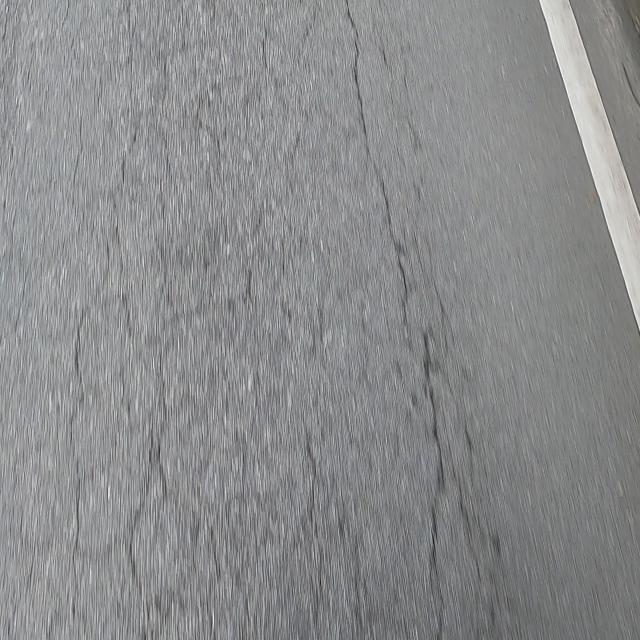Retak-Buaya: (65, 0, 328, 640)
Retak-Memanjang: (341, 0, 408, 340), (423, 340, 446, 640)
